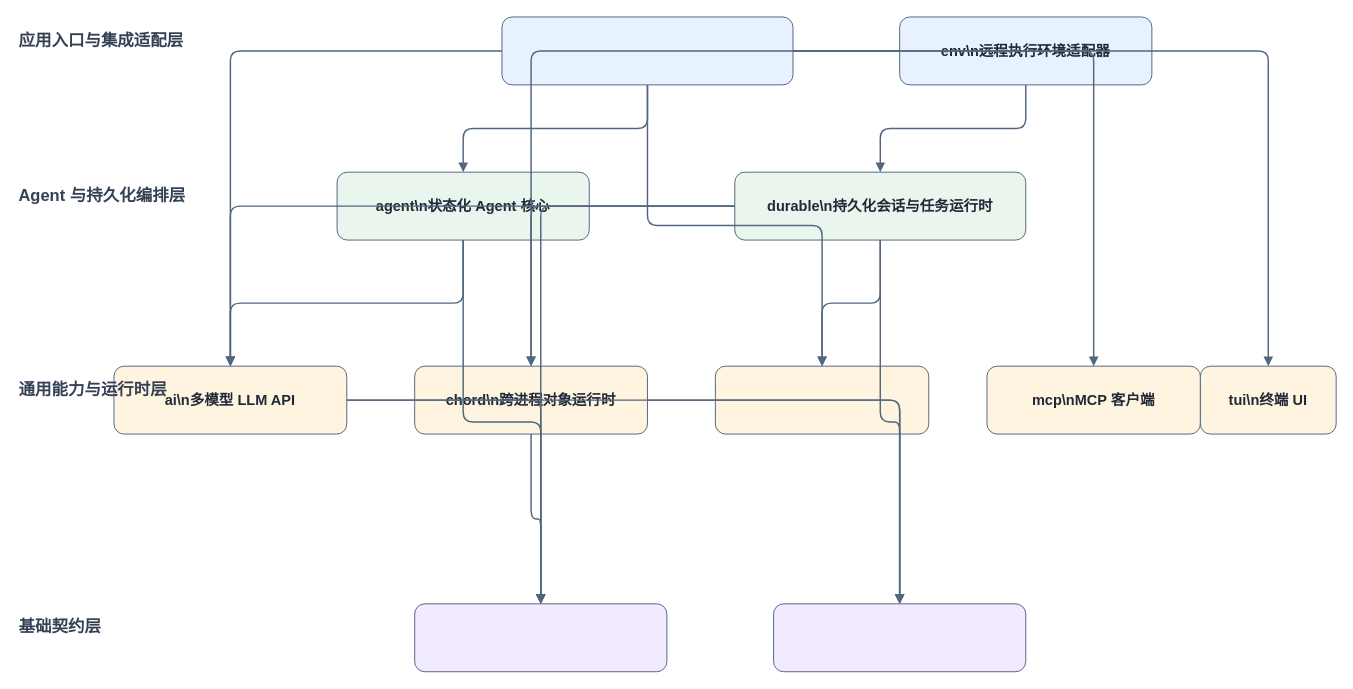
Image size: 1353x689. Some labels were removed from this diagram. The shapes that lost their labels are listed below. From the top down, each one's centre as x and y in pixels, then its label:
At (x=647, y=50): "coding-agent\n交互式编码 Agent / CLI".
At (x=821, y=399): "codemode\nQuickJS 工具沙箱".
At (x=540, y=637): "schema\nJSON Schema 构建与校验".
At (x=899, y=637): "telemetry\n遥测契约与指标".
